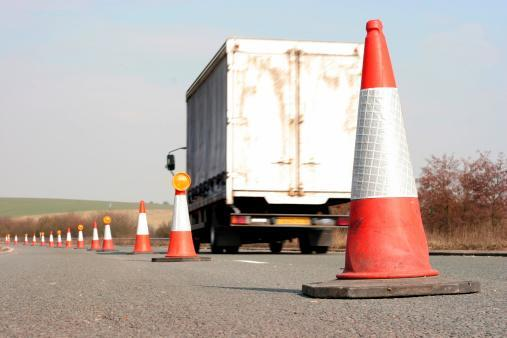Cone: (303, 19, 479, 298), (156, 173, 211, 262), (131, 200, 158, 253), (98, 215, 123, 255), (88, 221, 102, 250), (75, 225, 86, 248), (56, 230, 63, 248), (66, 227, 72, 246), (39, 232, 45, 244), (49, 231, 53, 245), (24, 234, 28, 244), (32, 233, 35, 245), (4, 234, 8, 243), (14, 233, 17, 244)
